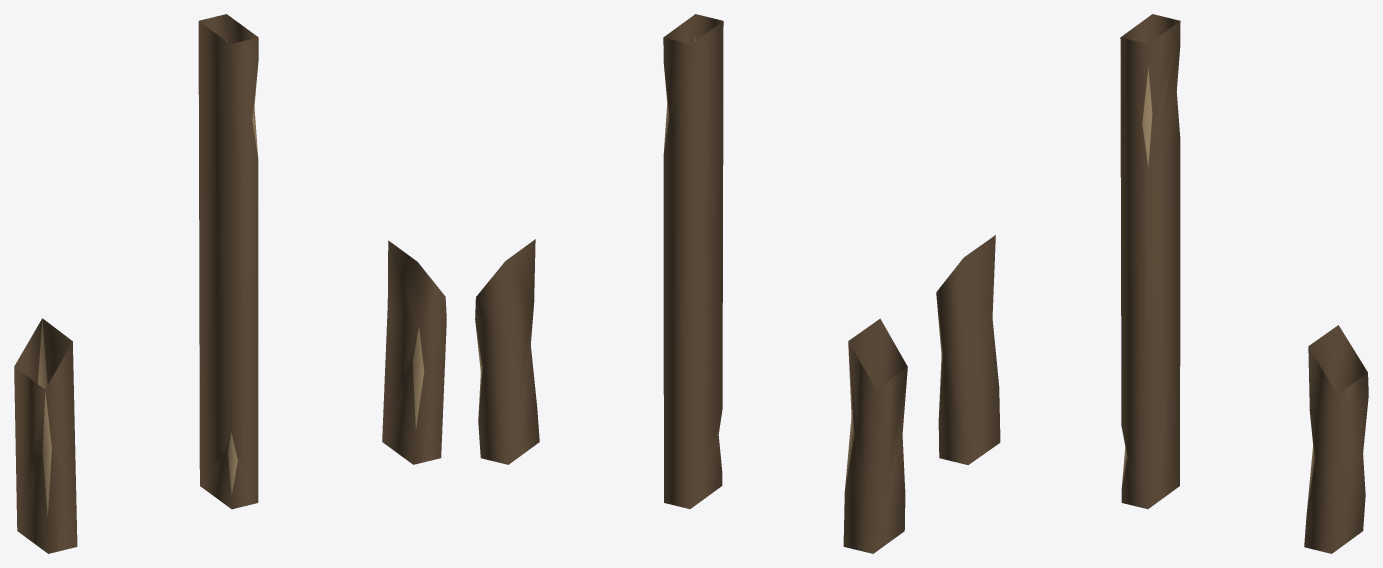
File: rpgpp_ag_roof_end_01_6x5_wall_beam_e.fbx
3 views of the same model, side by side, from view 1: azimuth 30°, elevation 25°; view 2: azimuth 150°, elevation 25°; view 3: azimuth 330°, elevation 25° (orthographic).
Parts seen in each view (by area): view 1: rpgpp_ag_roof_end_01_6x5_wall_beam_e; view 2: rpgpp_ag_roof_end_01_6x5_wall_beam_e; view 3: rpgpp_ag_roof_end_01_6x5_wall_beam_e.
Part boxes in pixels (x1,y1,x2,y2): rpgpp_ag_roof_end_01_6x5_wall_beam_e: (14, 14, 446, 553); rpgpp_ag_roof_end_01_6x5_wall_beam_e: (475, 14, 907, 553); rpgpp_ag_roof_end_01_6x5_wall_beam_e: (936, 14, 1368, 553).
Bounding box in the file's own units: 4.12 × 4.57 × 0.5692.
